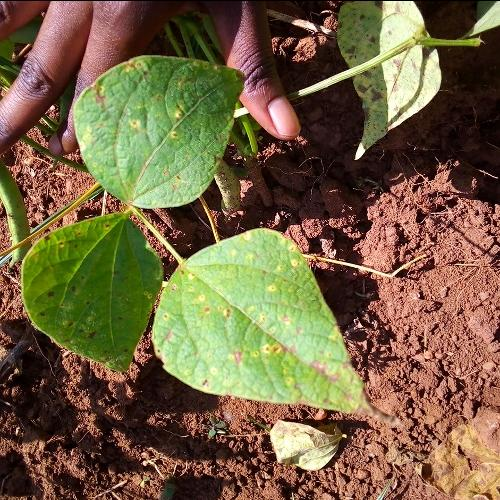hawar: (203, 224, 344, 404), (78, 51, 221, 209), (45, 231, 141, 368)
